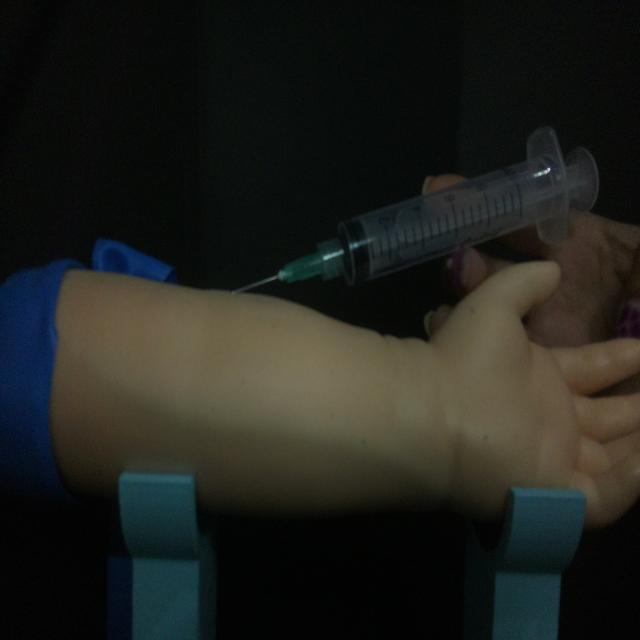22deg: (226, 121, 603, 300)
